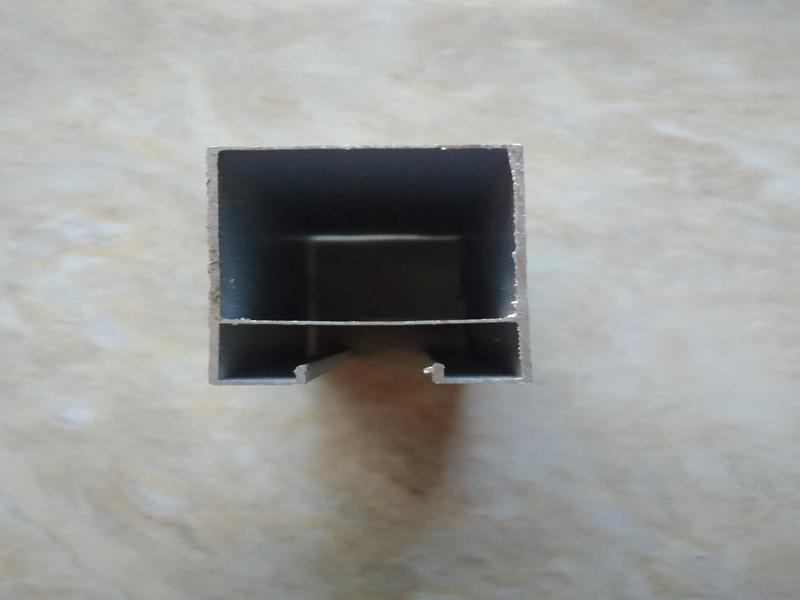Aluminium_1: (190, 125, 565, 407)
